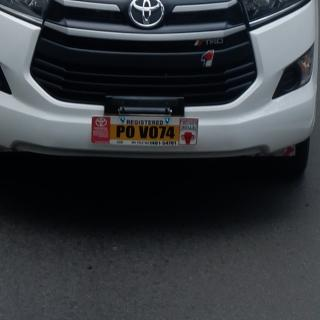license: (93, 117, 199, 147)
